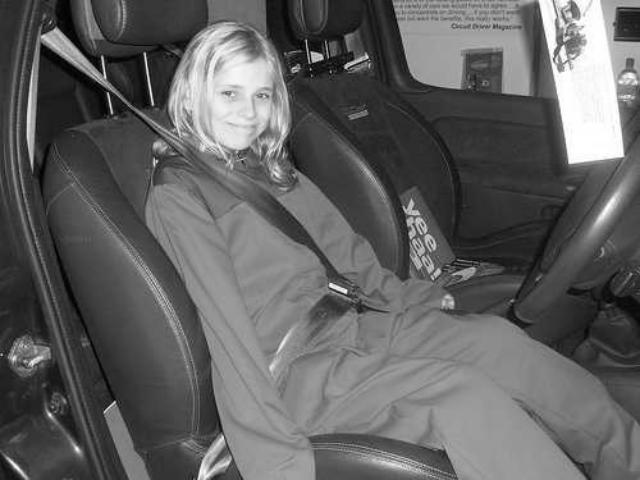SafeDriving: (250, 84, 278, 102), (216, 84, 243, 101)
Seatbelt: (39, 6, 358, 400)
